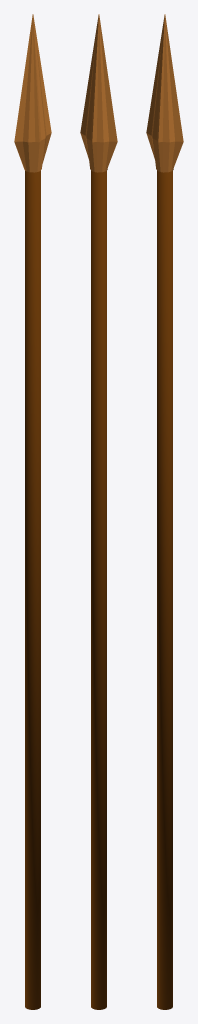
File: spear.fbx
3 views of the same model, side by side, from view 1: azimuth 30°, elevation 25°; view 2: azimuth 150°, elevation 25°; view 3: azimuth 330°, elevation 25° (orthographic).
Parts seen in each view (by area): view 1: Shaft, Head; view 2: Shaft, Head; view 3: Shaft, Head.
Boxes of the visible parts, x1,y1,x2,y2 form: Shaft: (25, 170, 40, 1009); Head: (14, 14, 51, 172); Shaft: (91, 170, 106, 1009); Head: (80, 14, 117, 172); Shaft: (157, 170, 172, 1009); Head: (146, 14, 183, 172).
Size of the model in its own units: 22.79 by 579 by 14.12.
